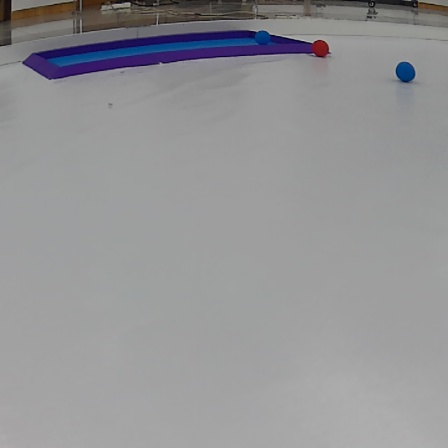blue: (393, 56, 417, 85), (252, 28, 274, 46)
blue_aim: (21, 38, 319, 63)
red: (310, 37, 334, 61)
